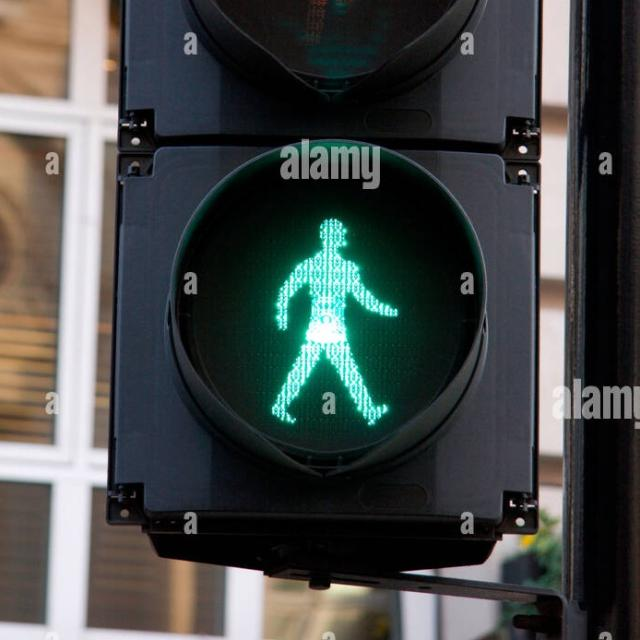green_light: (251, 204, 399, 420)
